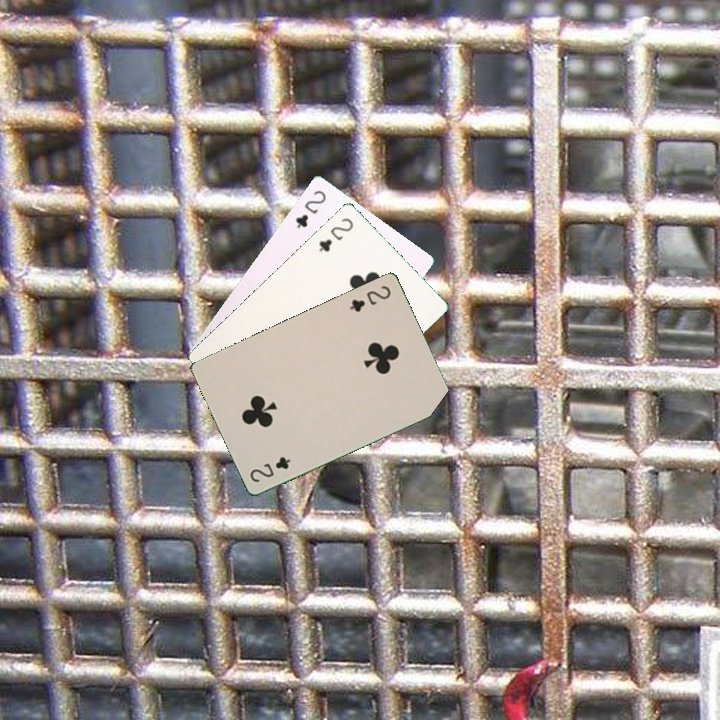2c: (291, 186, 329, 231), (315, 213, 356, 254), (345, 281, 393, 315), (246, 452, 293, 485)
